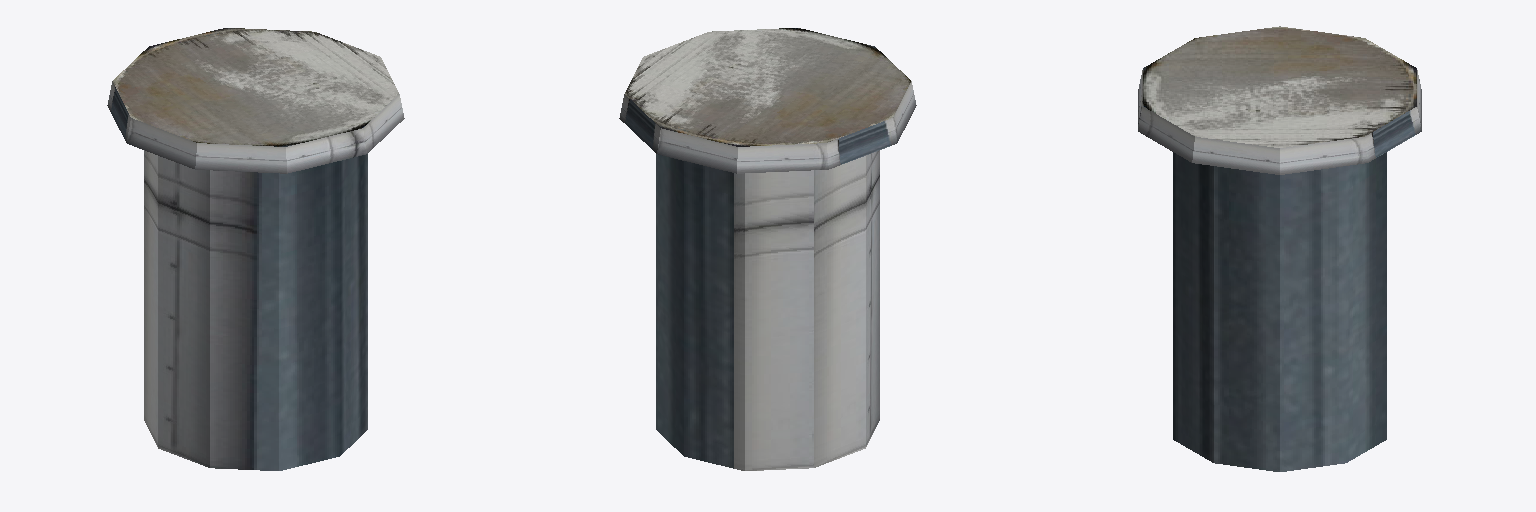
The picture shows the model from 3 angles: view 1: azimuth 30°, elevation 25°; view 2: azimuth 150°, elevation 25°; view 3: azimuth 270°, elevation 25°; orthographic projection.
Visible parts, largest first — view 1: chimney_1; view 2: chimney_1; view 3: chimney_1.
Part boxes in pixels (x1,y1,x2,y2): chimney_1: (107, 28, 404, 470); chimney_1: (619, 28, 916, 470); chimney_1: (1138, 26, 1421, 471).
Size of the model in its own units: 0.6615 by 0.8238 by 0.6291.
1 materials, 1 textured.